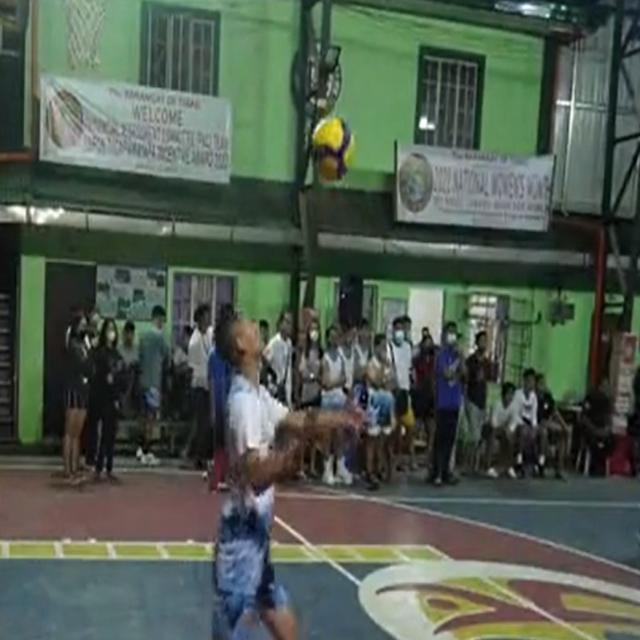volleyball: (311, 114, 356, 180)
